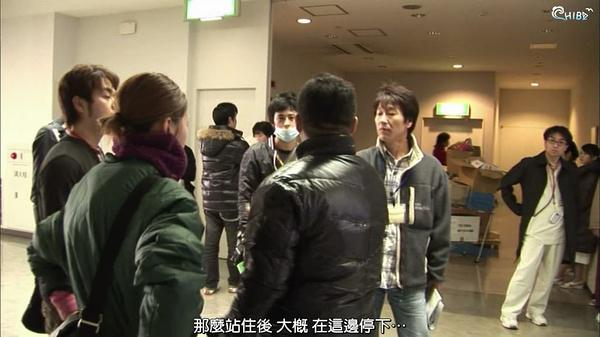NONE: (160, 109, 191, 158), (95, 88, 120, 128), (377, 108, 407, 141), (548, 136, 566, 157), (578, 150, 593, 165)
WRONG: (273, 109, 306, 142)
